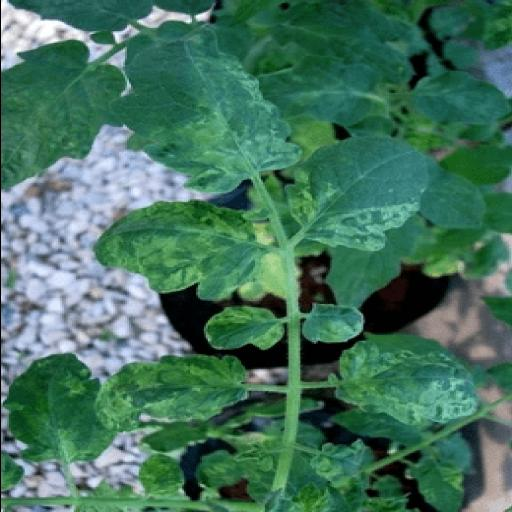Mosaic Virus: (106, 18, 304, 196), (280, 133, 432, 255), (92, 200, 270, 302), (324, 331, 490, 426), (0, 350, 118, 462), (93, 352, 251, 432), (198, 304, 286, 356), (308, 436, 378, 488), (300, 298, 370, 344)
